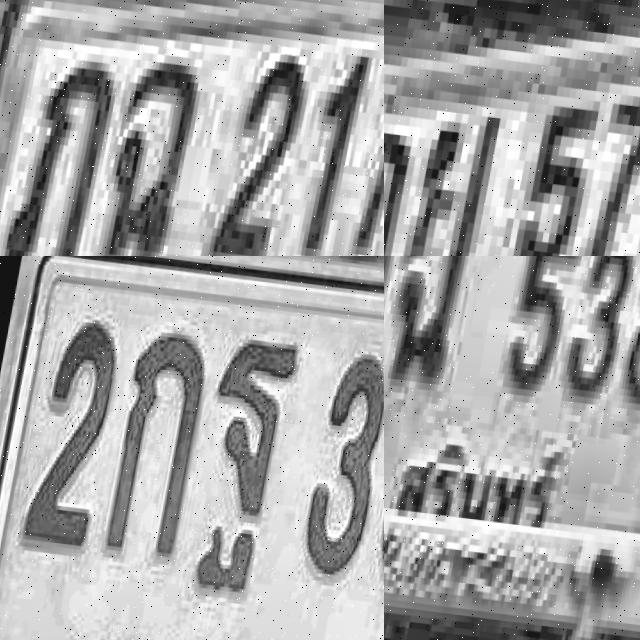license-plate: (0, 256, 384, 640), (0, 0, 384, 256), (384, 256, 640, 640), (384, 0, 640, 256)
